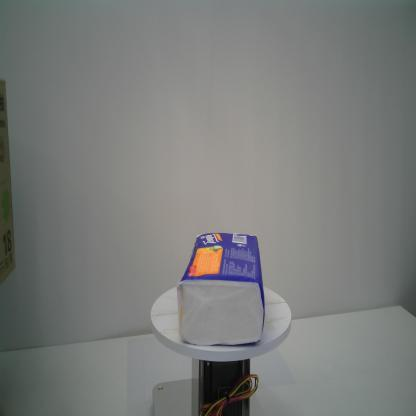Tissue: (176, 231, 266, 346)
